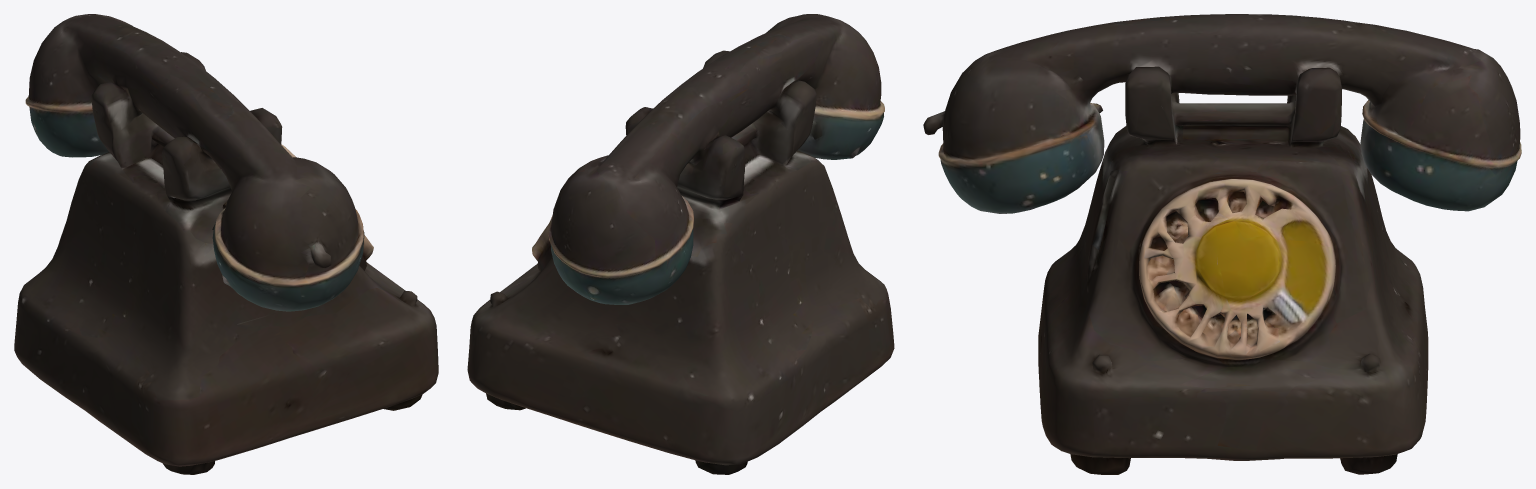
The model's file is deco_phone.glb.
The picture shows the model from 3 angles, left to right: view 1: azimuth 30°, elevation 25°; view 2: azimuth 150°, elevation 25°; view 3: azimuth 270°, elevation 25°; orthographic projection. The views are drawn at different scales.
Visible parts, largest first — view 1: tripo_node_32073ea6-88a2-4845-a18e-1fca68d06003; view 2: tripo_node_32073ea6-88a2-4845-a18e-1fca68d06003; view 3: tripo_node_32073ea6-88a2-4845-a18e-1fca68d06003.
Part boxes in pixels (x1,y1,x2,y2): tripo_node_32073ea6-88a2-4845-a18e-1fca68d06003: [14, 14, 438, 474]; tripo_node_32073ea6-88a2-4845-a18e-1fca68d06003: [467, 14, 894, 474]; tripo_node_32073ea6-88a2-4845-a18e-1fca68d06003: [923, 14, 1521, 474].
Size of the model in its own units: 0.6351 by 0.7082 by 0.9996.
Materials: 1 (1 with a texture image).
